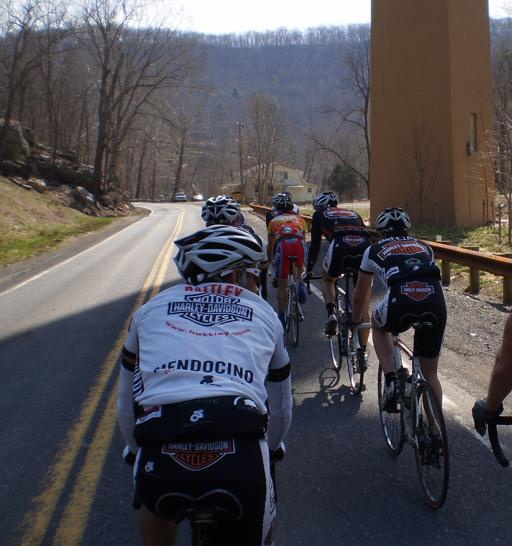non-vehicle: (336, 312, 451, 512), (303, 264, 367, 394), (148, 486, 242, 545), (469, 411, 512, 469), (283, 255, 304, 346)
